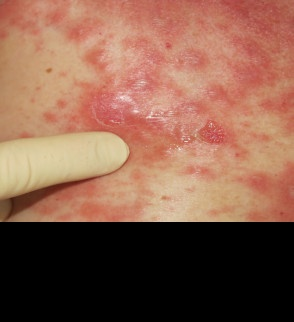SJS-TEN: (0, 0, 294, 221)
